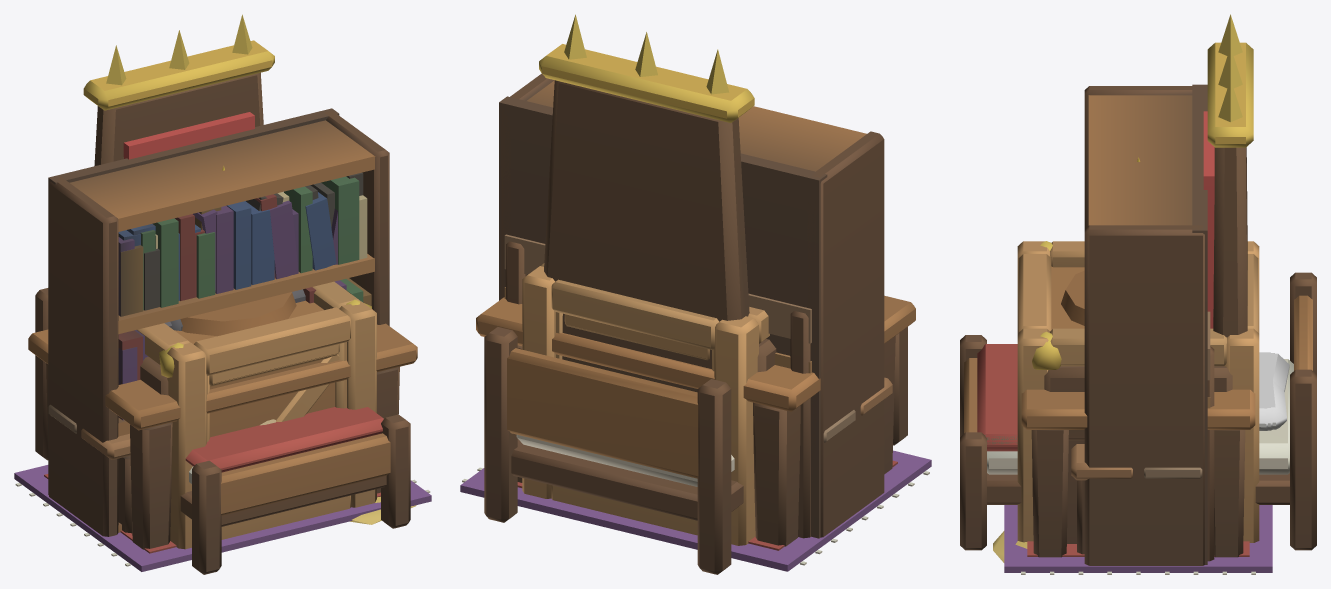
Rendered from furniture.glb.
3 renders of one model, left to right at view 1: azimuth 30°, elevation 25°; view 2: azimuth 150°, elevation 25°; view 3: azimuth 270°, elevation 25°, orthographic. The views are drawn at different scales.
Parts seen in each view (by area): view 1: p_bookshelf~0, p_bed~0, p_crate~0, p_throne~0, p_table~0, p_bookshelf~2, p_rug~0, p_bookshelf~1, p_crate~1, p_bench~0, p_barrel~1, p_barrel~0 (+1 smaller); view 2: p_throne~0, p_bookshelf~0, p_bed~0, p_crate~0, p_table~0, p_rug~0, p_bench~1, p_crate~1, p_bench~0; view 3: p_bookshelf~0, p_bed~0, p_throne~0, p_crate~0, p_table~0, p_rug~0, p_bench~0, p_bench~1, p_bed~1, p_bed~2, p_barrel~0.
Part boxes in pixels (x1,y1,x2,y2): p_bookshelf~0: (48,108,389,536); p_bed~0: (35,288,410,574); p_crate~0: (137,281,376,549); p_throne~0: (83,14,371,395); p_table~0: (28,323,417,549); p_bookshelf~2: (118,195,371,419); p_rug~0: (14,465,431,571); p_bookshelf~1: (118,172,363,384); p_crate~1: (207,342,346,441); p_bench~0: (48,404,132,533); p_barrel~1: (180,292,296,336); p_barrel~0: (188,292,291,321); p_throne~0: (539,14,776,392); p_bookshelf~0: (499,73,884,538); p_bed~0: (484,327,907,574); p_crate~0: (522,263,769,545); p_table~0: (476,295,915,546); p_rug~0: (460,450,931,571); p_bench~1: (504,234,889,538); p_crate~1: (556,312,714,371); p_bench~0: (823,377,892,442); p_bookshelf~0: (1084,84,1207,565); p_bed~0: (960,272,1316,550); p_throne~0: (1032,14,1253,543); p_crate~0: (1017,241,1259,542); p_table~0: (1021,389,1255,557); p_rug~0: (1004,505,1272,574); p_bench~0: (1071,444,1202,554); p_bench~1: (1207,311,1214,561); p_bed~1: (985,352,1286,443); p_bed~2: (1259,353,1274,430); p_barrel~0: (1065,270,1084,308).
Size of the model in its own units: 0.9619 by 1.33 by 0.93.
